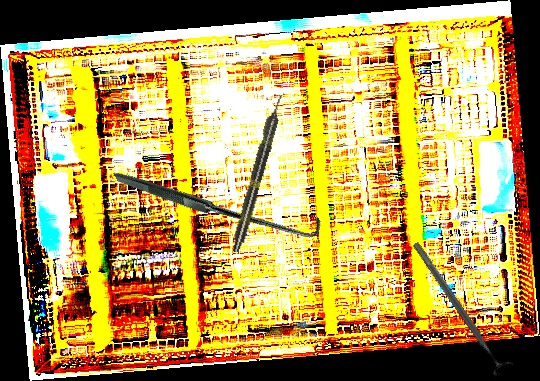Fixation Ring: (405, 236, 515, 379)
Handpiece: (228, 94, 288, 254)
Hook Surgical: (112, 91, 326, 311)
